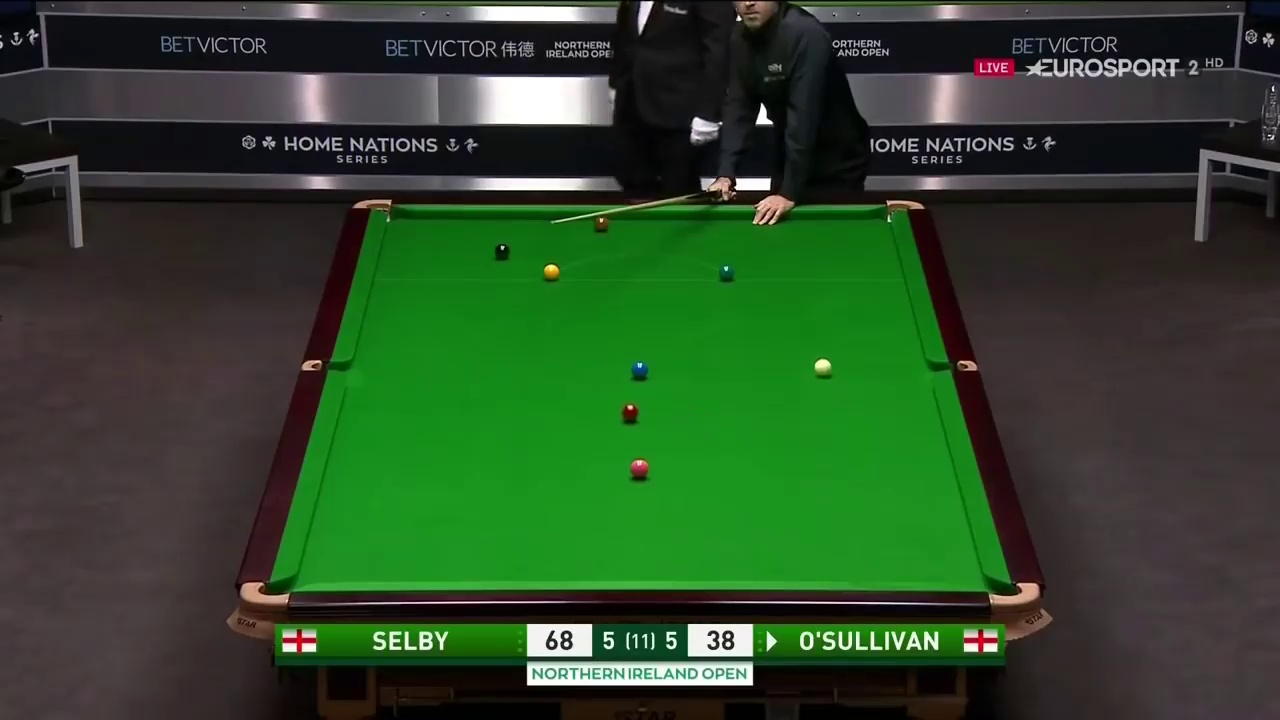black: (494, 242, 510, 258)
blue: (632, 362, 648, 380)
brown: (594, 216, 611, 231)
green: (719, 260, 735, 282)
pink: (626, 457, 650, 479)
red: (622, 403, 637, 424)
white: (812, 357, 831, 376)
yellow: (541, 262, 559, 281)
